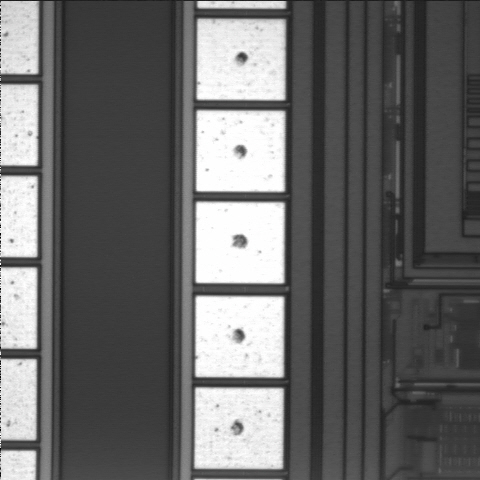pad: (196, 110, 285, 192), (196, 202, 285, 283), (195, 296, 284, 377), (194, 388, 283, 469), (197, 19, 285, 100)
